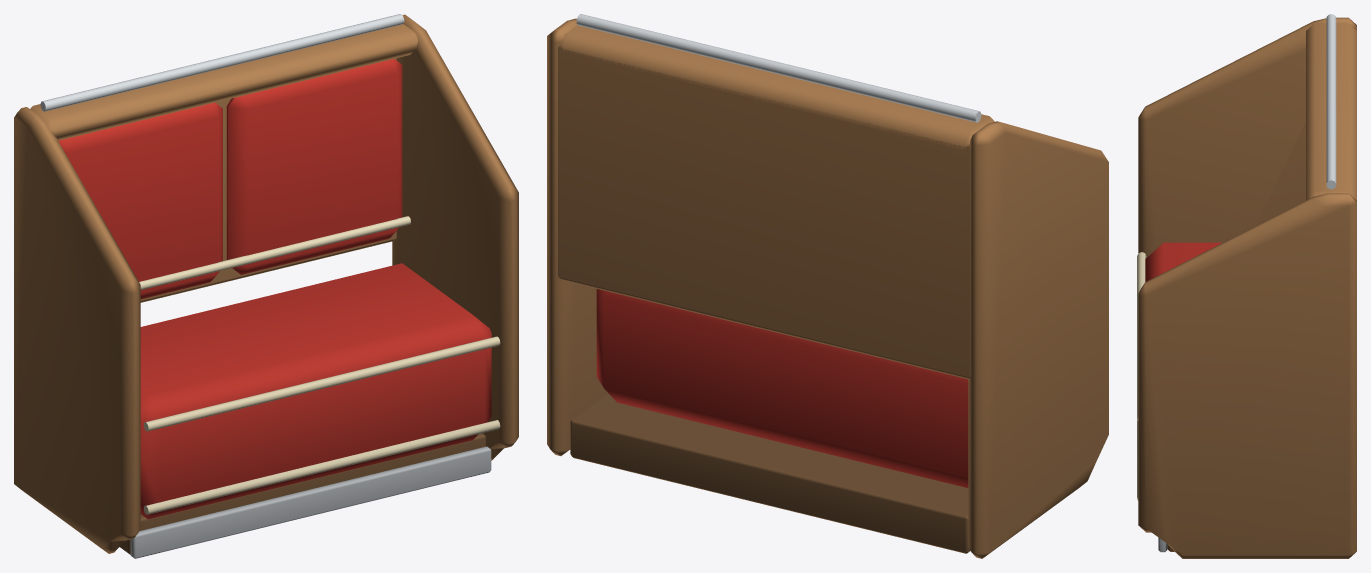
File: SM_Booth_Single_12.glb
3 renders of one model, left to right at view 1: azimuth 30°, elevation 25°; view 2: azimuth 150°, elevation 25°; view 3: azimuth 270°, elevation 25°, orthographic. The views are drawn at different scales.
Parts seen in each view (by area): view 1: SM_Booth_Single_12; view 2: SM_Booth_Single_12; view 3: SM_Booth_Single_12.
Boxes of the visible parts, x1,y1,x2,y2 form: SM_Booth_Single_12: [14, 14, 518, 558]; SM_Booth_Single_12: [547, 14, 1108, 558]; SM_Booth_Single_12: [1137, 14, 1356, 558].
Bounding box in the file's own units: 1.2 × 1.13 × 0.603.
Materials: 1 (1 with a texture image).
